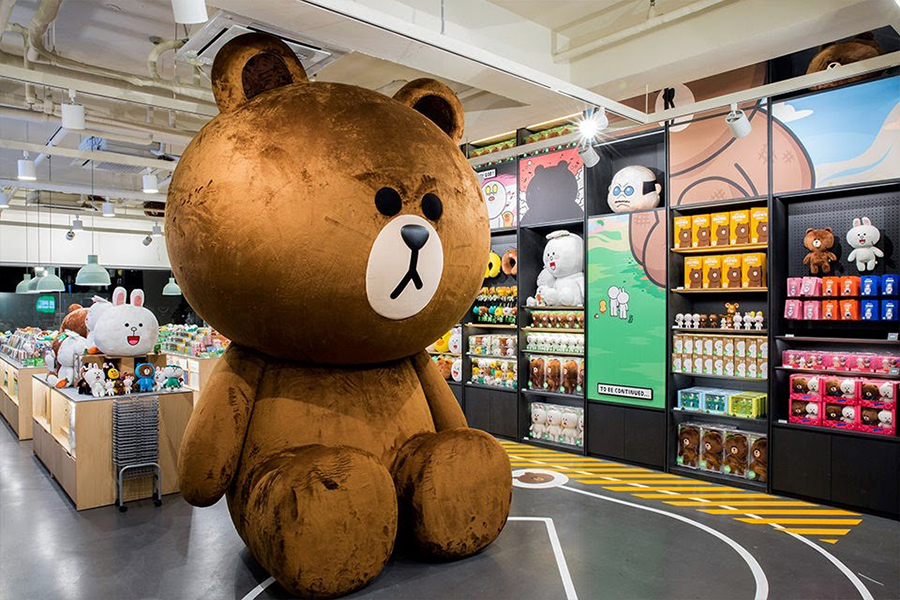line_brown: (162, 16, 497, 384)
